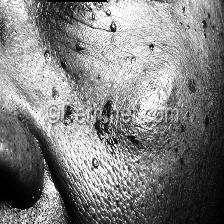Benign Marking or Mole: (179, 0, 214, 38), (95, 120, 110, 141), (102, 102, 114, 116), (65, 105, 72, 124), (129, 134, 139, 144), (110, 22, 116, 33), (93, 158, 98, 168)
